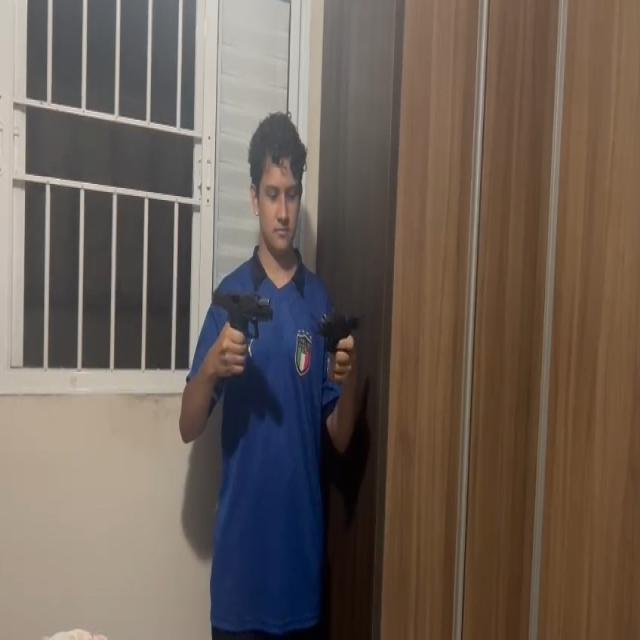guns: (214, 290, 275, 338), (318, 307, 360, 343)
